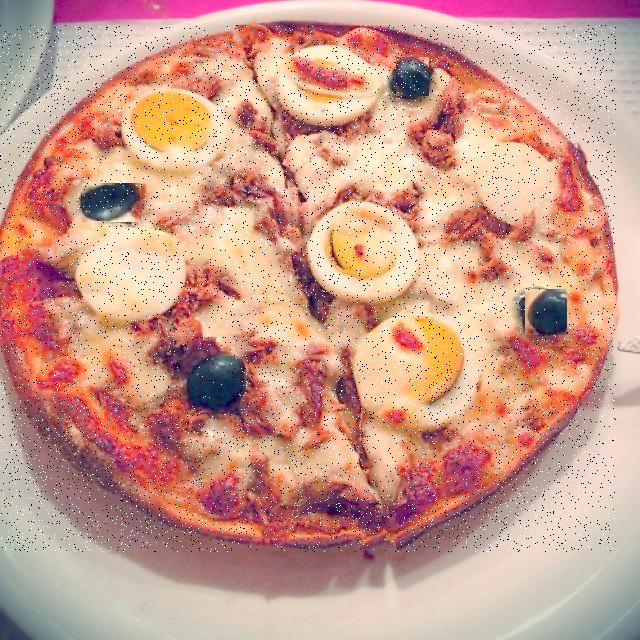Olives: (181, 349, 241, 413), (82, 184, 141, 222), (525, 290, 567, 335), (396, 58, 429, 96)
Pizza: (0, 25, 616, 552)
